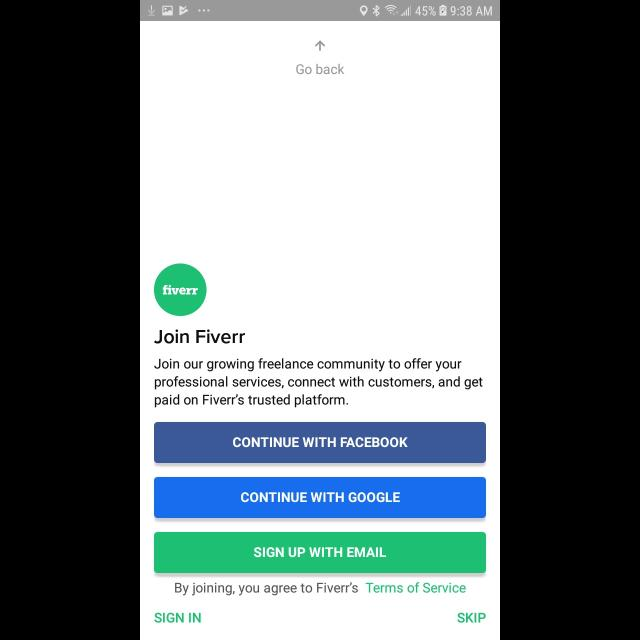icon: (314, 40, 326, 51)
image: (154, 264, 206, 316)
text: (154, 358, 482, 408), (176, 582, 467, 596), (154, 328, 246, 344), (154, 612, 202, 624), (296, 64, 344, 74), (458, 612, 486, 624)
textbutton: (154, 532, 486, 574), (154, 422, 486, 463), (154, 478, 486, 518)
uppertaskbar: (140, 1, 500, 22)
